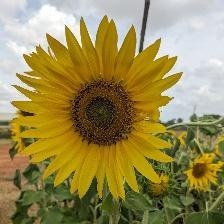sunflower: (11, 14, 185, 203)
